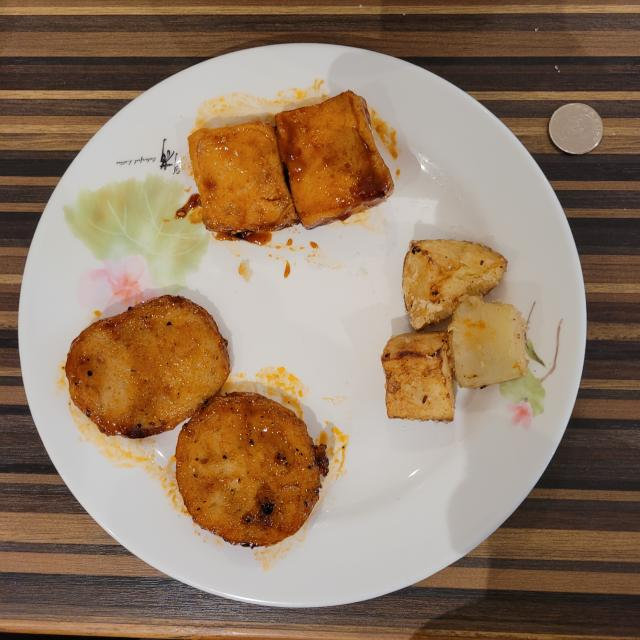coin: (549, 102, 604, 155)
creamy tofu: (189, 91, 394, 238)
fish cake: (65, 295, 329, 548)
fried potato: (381, 240, 528, 421)
